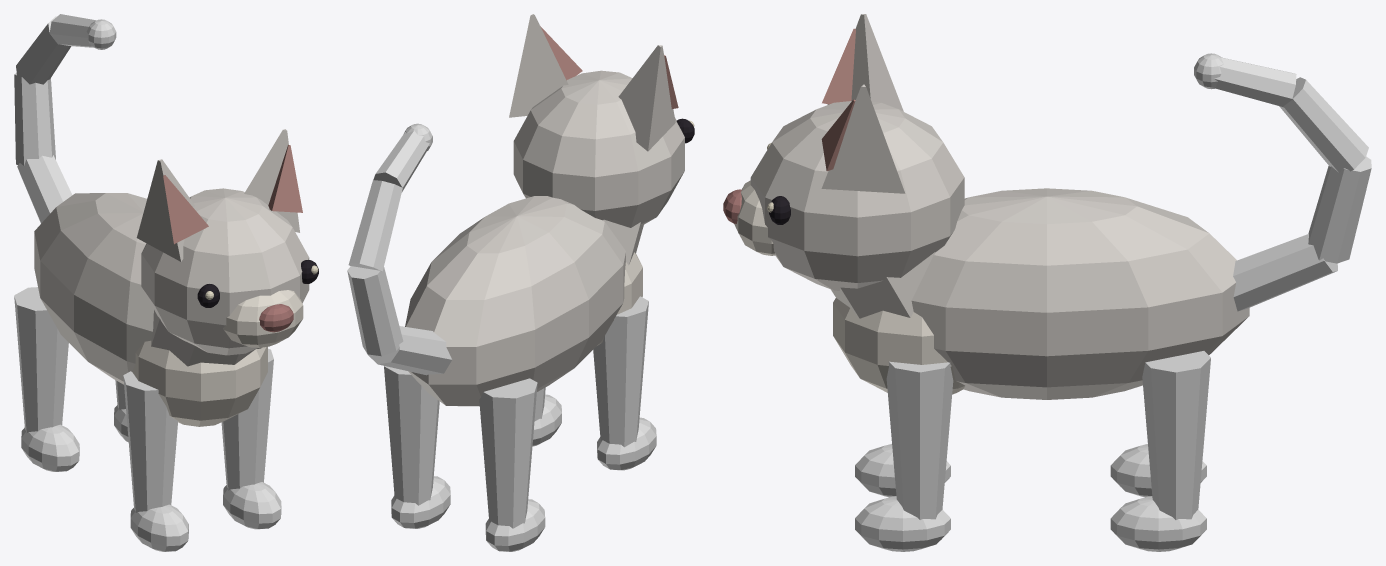
File: white_cat.fbx
The picture shows the model from 3 angles, left to right: view 1: azimuth 30°, elevation 25°; view 2: azimuth 150°, elevation 25°; view 3: azimuth 270°, elevation 25°; orthographic projection. The views are drawn at different scales.
Parts seen in each view (by area): view 1: Body, Tail, HindLeft, ForeLeft, ForeRight, HindRight; view 2: Body, Tail, HindLeft, ForeLeft, HindRight, ForeRight; view 3: Body, Tail, HindRight, ForeRight, HindLeft, ForeLeft.
Part boxes in pixels (bbox=[...]): Body: bbox=[34, 129, 318, 426]; Tail: bbox=[14, 14, 116, 223]; HindLeft: bbox=[14, 287, 79, 471]; ForeLeft: bbox=[123, 371, 188, 551]; ForeRight: bbox=[221, 348, 281, 529]; HindRight: bbox=[114, 380, 128, 442]; Body: bbox=[405, 14, 694, 406]; Tail: bbox=[347, 123, 451, 375]; HindLeft: bbox=[479, 378, 545, 551]; ForeLeft: bbox=[593, 296, 656, 470]; HindRight: bbox=[384, 366, 450, 528]; ForeRight: bbox=[532, 387, 561, 446]; Body: bbox=[723, 14, 1249, 399]; Tail: bbox=[1194, 53, 1371, 311]; HindRight: bbox=[1110, 351, 1210, 551]; ForeRight: bbox=[855, 361, 953, 551]; HindLeft: bbox=[1110, 444, 1206, 497]; ForeLeft: bbox=[855, 444, 950, 497].
Bounding box in the file's own units: 32 × 87.08 × 106.
